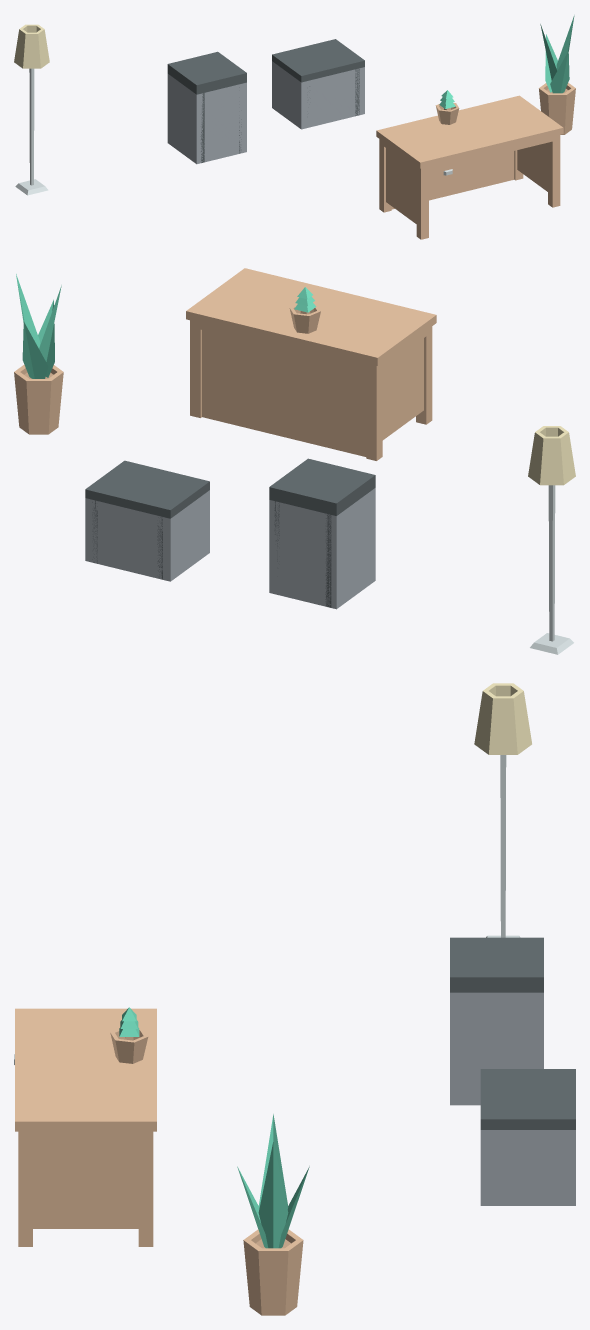
3 renders of one model, top to bottom at view 1: azimuth 30°, elevation 25°; view 2: azimuth 150°, elevation 25°; view 3: azimuth 270°, elevation 25°, orthographic. The views are drawn at different scales.
Visible parts, largest first — view 1: desk_blue__desk(Clone), bin_gray__bin_gray shell, crate_red__crate_red shell, crate_red__crate_red lid, lamp_white__lampRoundFloor(Clone), bin_gray__bin_gray lid, plant_pink__plant, plant_pink__pottedPlant(Clone), flowerpot_green__plantSmall1(Clone), desk_blue__drawer, bin_gray__bin_gray band, crate_red__crate_red band.001; view 2: desk_blue__desk(Clone), bin_gray__bin_gray shell, crate_red__crate_red shell, crate_red__crate_red lid, bin_gray__bin_gray lid, lamp_white__lampRoundFloor(Clone), plant_pink__pottedPlant(Clone), plant_pink__plant, flowerpot_green__plantSmall1(Clone), bin_gray__bin_gray band; view 3: desk_blue__desk(Clone), bin_gray__bin_gray shell, crate_red__crate_red shell, crate_red__crate_red lid, bin_gray__bin_gray lid, lamp_white__lampRoundFloor(Clone), plant_pink__pottedPlant(Clone), plant_pink__plant, flowerpot_green__plantSmall1(Clone).
Boxes of the visible parts, x1,y1,x2,y2 form: desk_blue__desk(Clone): [376, 95, 563, 239]; bin_gray__bin_gray shell: [167, 74, 246, 164]; crate_red__crate_red shell: [272, 61, 364, 129]; crate_red__crate_red lid: [272, 39, 364, 82]; lamp_white__lampRoundFloor(Clone): [14, 24, 49, 195]; bin_gray__bin_gray lid: [167, 51, 246, 94]; plant_pink__plant: [540, 15, 574, 93]; plant_pink__pottedPlant(Clone): [539, 82, 575, 134]; flowerpot_green__plantSmall1(Clone): [435, 90, 459, 124]; desk_blue__drawer: [429, 162, 467, 181]; bin_gray__bin_gray band: [172, 62, 204, 162]; crate_red__crate_red band.001: [326, 40, 359, 116]; desk_blue__desk(Clone): [186, 268, 436, 460]; bin_gray__bin_gray shell: [269, 488, 375, 609]; crate_red__crate_red shell: [85, 490, 209, 581]; crate_red__crate_red lid: [85, 460, 209, 518]; bin_gray__bin_gray lid: [269, 458, 375, 515]; lamp_white__lampRoundFloor(Clone): [528, 426, 575, 654]; plant_pink__pottedPlant(Clone): [14, 364, 63, 434]; plant_pink__plant: [16, 274, 61, 378]; flowerpot_green__plantSmall1(Clone): [289, 287, 320, 333]; bin_gray__bin_gray band: [325, 472, 369, 607]; desk_blue__desk(Clone): [15, 1008, 156, 1246]; bin_gray__bin_gray shell: [450, 992, 543, 1105]; crate_red__crate_red shell: [480, 1130, 575, 1205]; crate_red__crate_red lid: [480, 1069, 575, 1129]; bin_gray__bin_gray lid: [450, 937, 543, 992]; lamp_white__lampRoundFloor(Clone): [474, 683, 531, 937]; plant_pink__pottedPlant(Clone): [243, 1229, 303, 1315]; plant_pink__plant: [237, 1114, 309, 1248]; flowerpot_green__plantSmall1(Clone): [110, 1007, 148, 1063].
Bounding box in the file's own units: 4.33 × 1.36 × 2.69.
